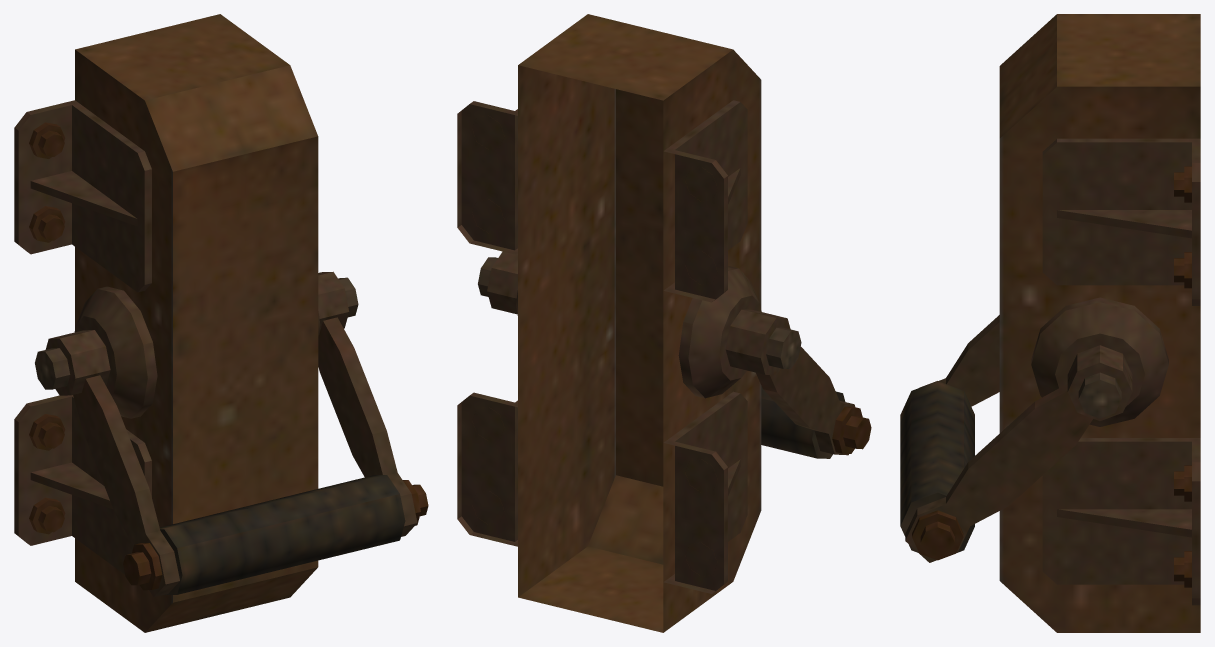
File: lever_etx_9.obj
3 views of the same model, side by side, from view 1: azimuth 30°, elevation 25°; view 2: azimuth 150°, elevation 25°; view 3: azimuth 270°, elevation 25° (orthographic). The views are drawn at different scales.
Visible parts, largest first — view 1: lever_etx_9, lever_etx_9_child; view 2: lever_etx_9, lever_etx_9_child; view 3: lever_etx_9, lever_etx_9_child.
Part boxes in pixels (<box>): lever_etx_9: <box>14,14,320,632</box>; lever_etx_9_child: <box>35,271,428,597</box>; lever_etx_9: <box>457,14,761,632</box>; lever_etx_9_child: <box>478,251,871,458</box>; lever_etx_9: <box>999,14,1200,632</box>; lever_etx_9_child: <box>900,315,1132,562</box>.
Size of the model in its own units: 0.225 by 0.378 by 0.1882.
